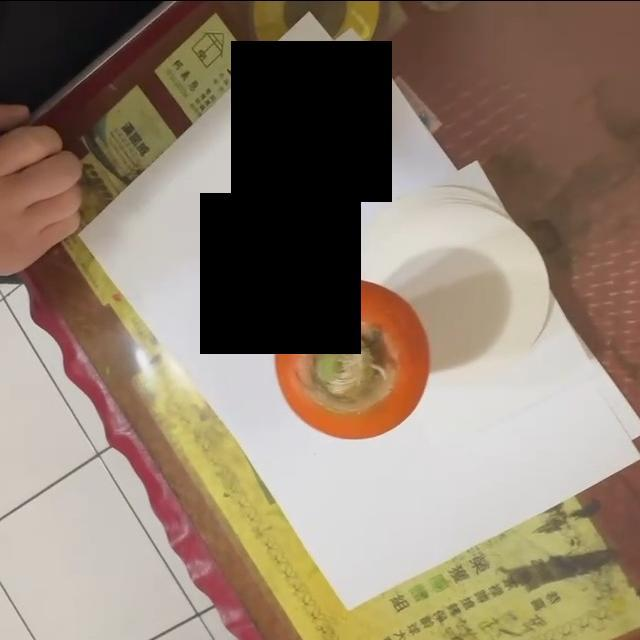carrot: (271, 275, 430, 439)
